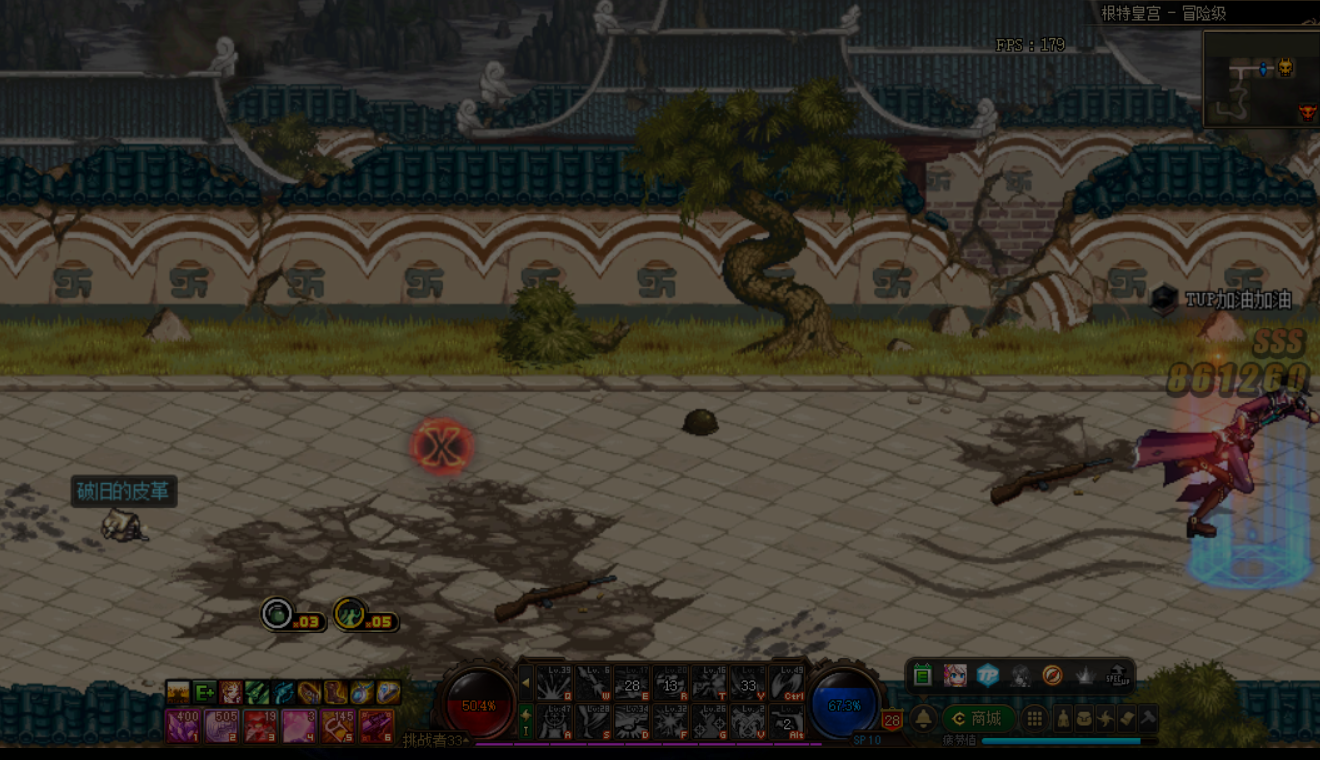warrior: (1141, 358, 1320, 549)
